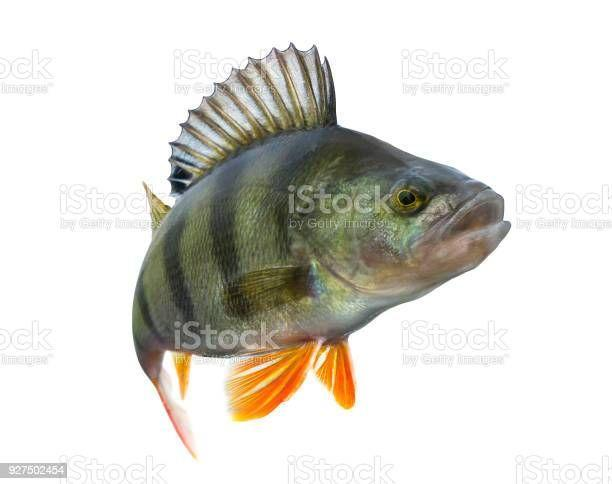Perch: (127, 45, 513, 464)
